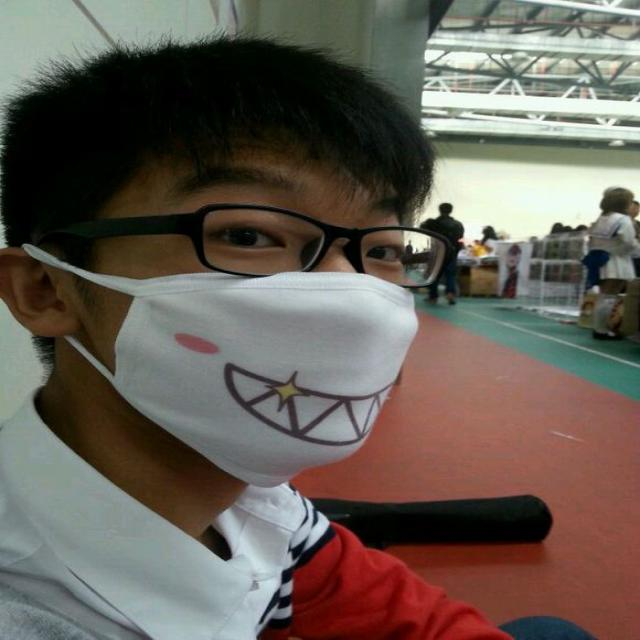mask: (103, 121, 420, 480)
